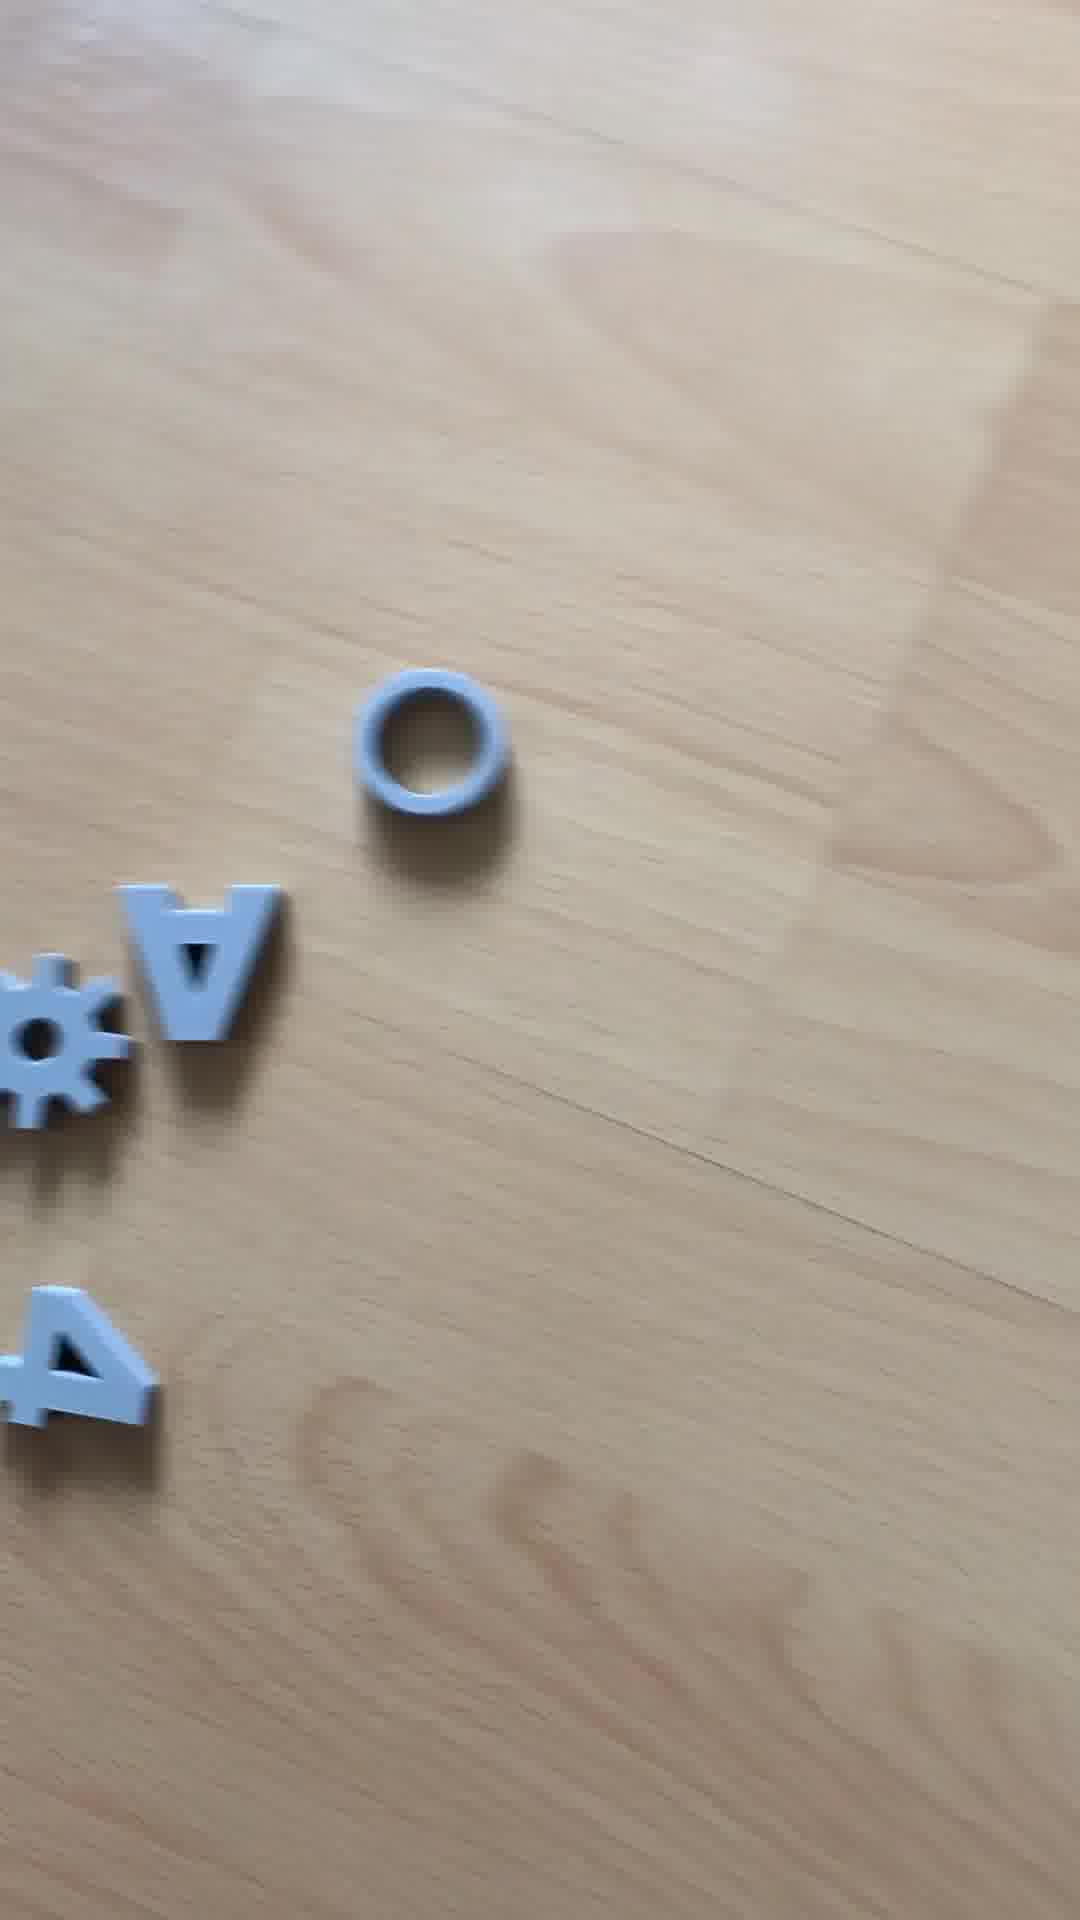Gray A-letter: (107, 876, 286, 1050)
Gray four: (1, 1291, 167, 1440)
Gray gear: (1, 953, 142, 1142)
Gray ring: (353, 665, 508, 831)
